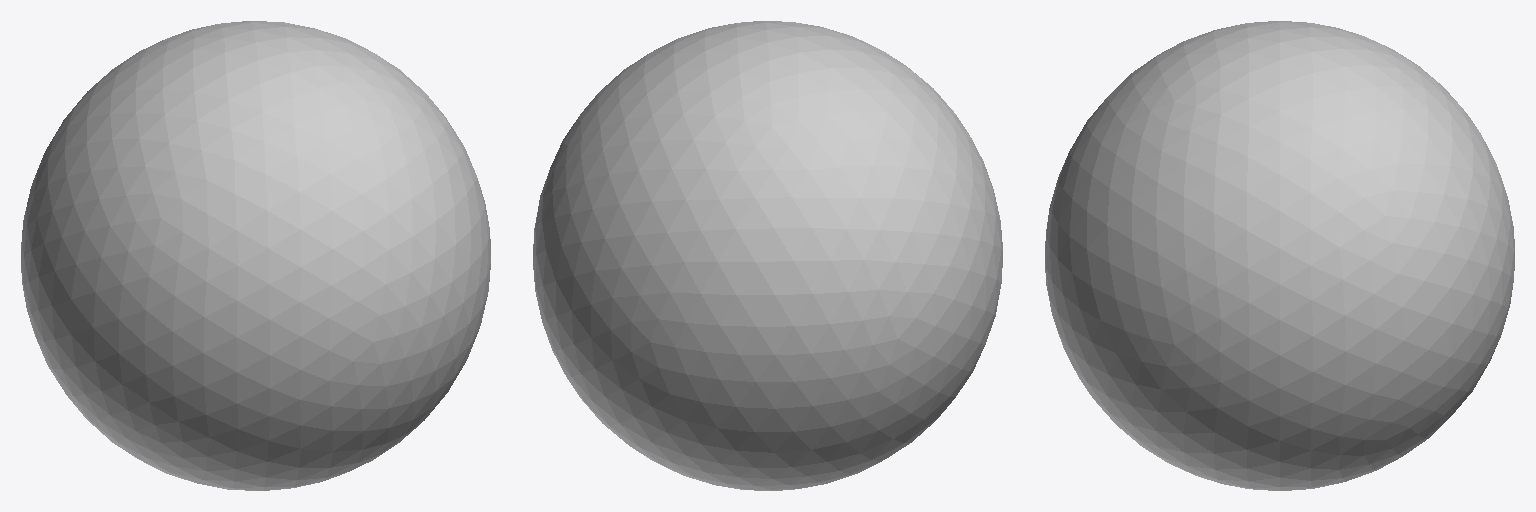
The model's file is ball1280.obj.
3 views of the same model, side by side, from view 1: azimuth 30°, elevation 25°; view 2: azimuth 150°, elevation 25°; view 3: azimuth 270°, elevation 25° (orthographic).
Visible parts, largest first — view 1: pPlatonic1; view 2: pPlatonic1; view 3: pPlatonic1.
Boxes of the visible parts, <box> form: pPlatonic1: <box>21,21,490,490</box>; pPlatonic1: <box>533,21,1002,490</box>; pPlatonic1: <box>1045,21,1514,490</box>.
Size of the model in its own units: 2 by 2 by 2.